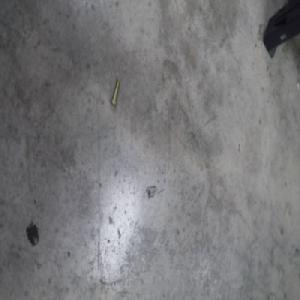Bolt: (109, 78, 120, 108)
